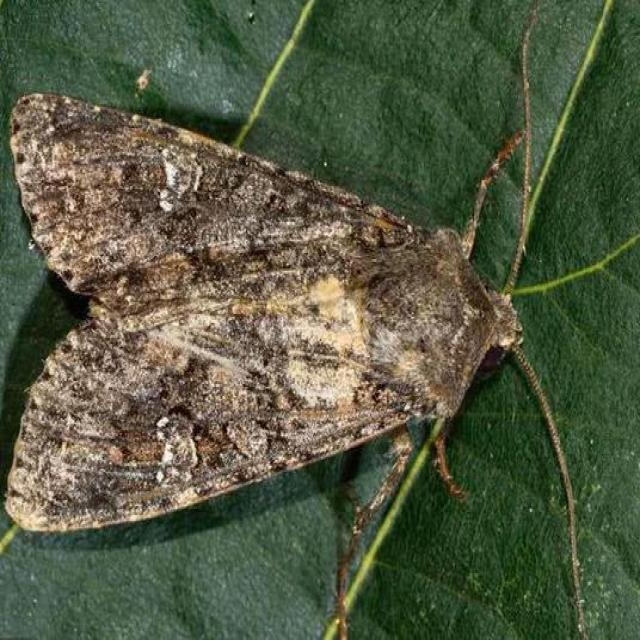armyworm: (10, 91, 577, 531)
